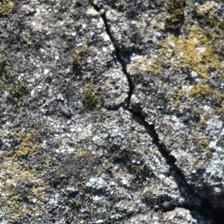Crack: (44, 2, 146, 188)
